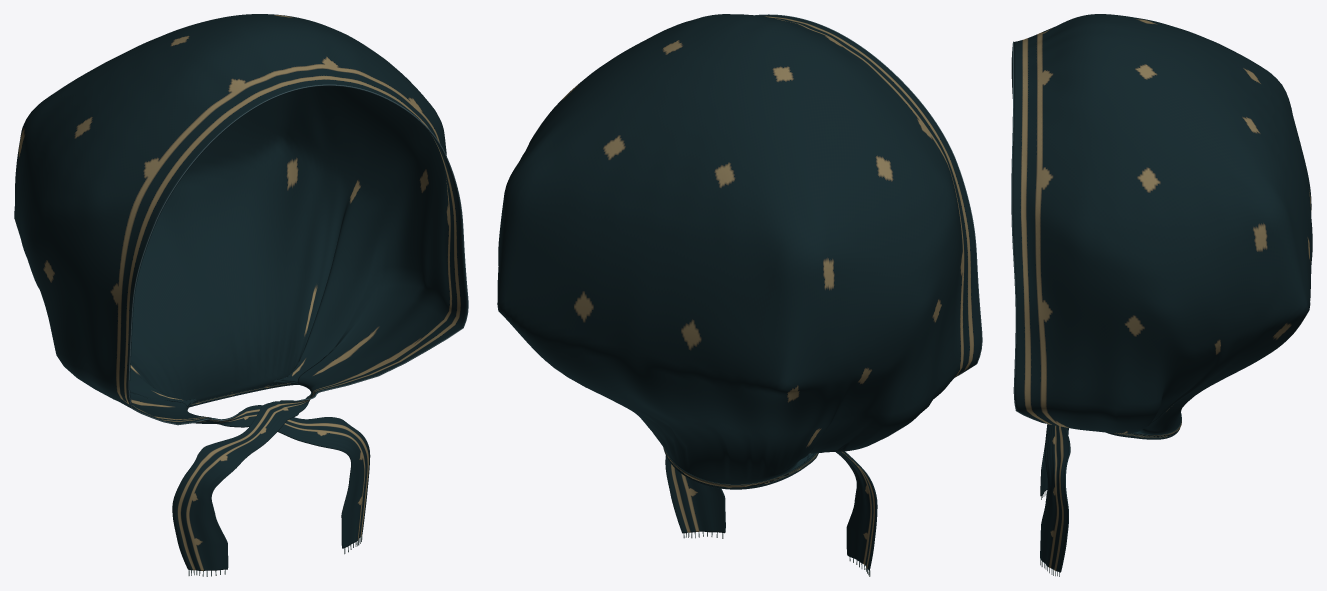
The model's file is Masculine-flow-jersey-pashmina249-headgear.glb.
3 views of the same model, side by side, from view 1: azimuth 30°, elevation 25°; view 2: azimuth 150°, elevation 25°; view 3: azimuth 270°, elevation 25° (orthographic). The views are drawn at different scales.
Visible parts, largest first — view 1: 226 headgear / Headwear / continuous woven pashmina239, 226 headgear / Headwear / face edge239; view 2: 226 headgear / Headwear / continuous woven pashmina239, 226 headgear / Headwear / face edge239; view 3: 226 headgear / Headwear / continuous woven pashmina239, 226 headgear / Headwear / face edge239.
Boxes of the visible parts, x1=… form: 226 headgear / Headwear / continuous woven pashmina239: x1=14, y1=14, x2=467, y2=570; 226 headgear / Headwear / face edge239: x1=128, y1=84, x2=468, y2=425; 226 headgear / Headwear / continuous woven pashmina239: x1=497, y1=14, x2=981, y2=570; 226 headgear / Headwear / face edge239: x1=755, y1=14, x2=982, y2=377; 226 headgear / Headwear / continuous woven pashmina239: x1=1012, y1=14, x2=1312, y2=572; 226 headgear / Headwear / face edge239: x1=1011, y1=41, x2=1045, y2=423.
Bounding box in the file's own units: 1.12 × 1.44 × 0.7747.
Materials: 3 (1 with a texture image).
